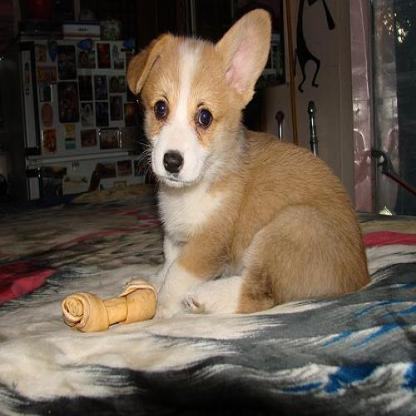Pembroke: (124, 8, 374, 317)
